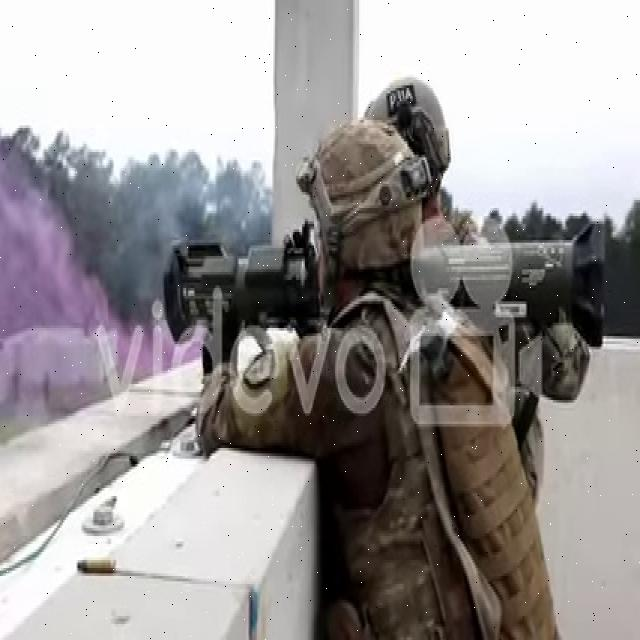bazooka: (163, 218, 618, 363)
